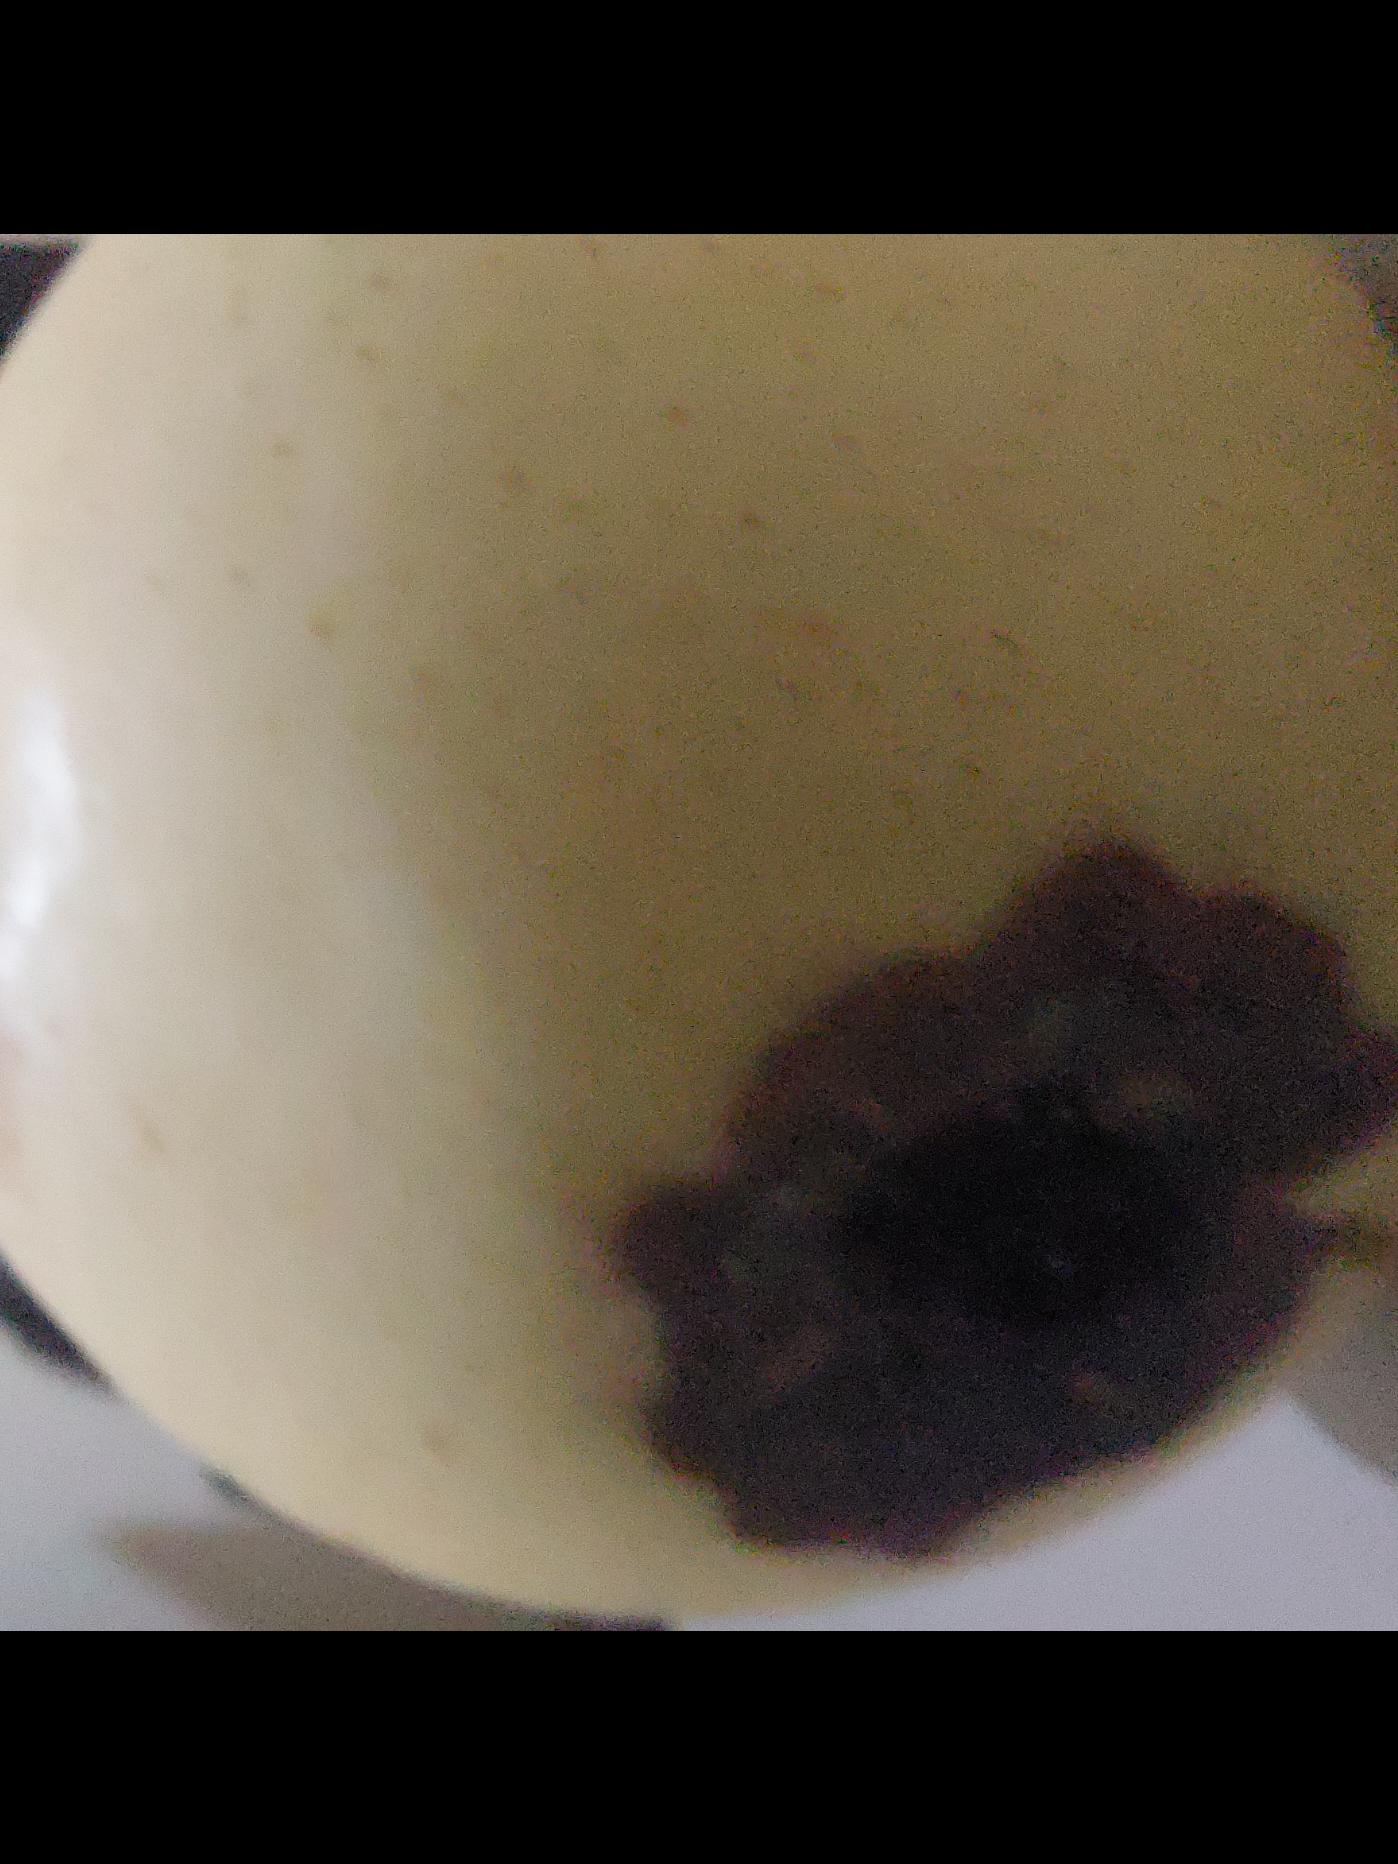Bad Pear: (0, 233, 1398, 1631), (0, 233, 1398, 1617)
